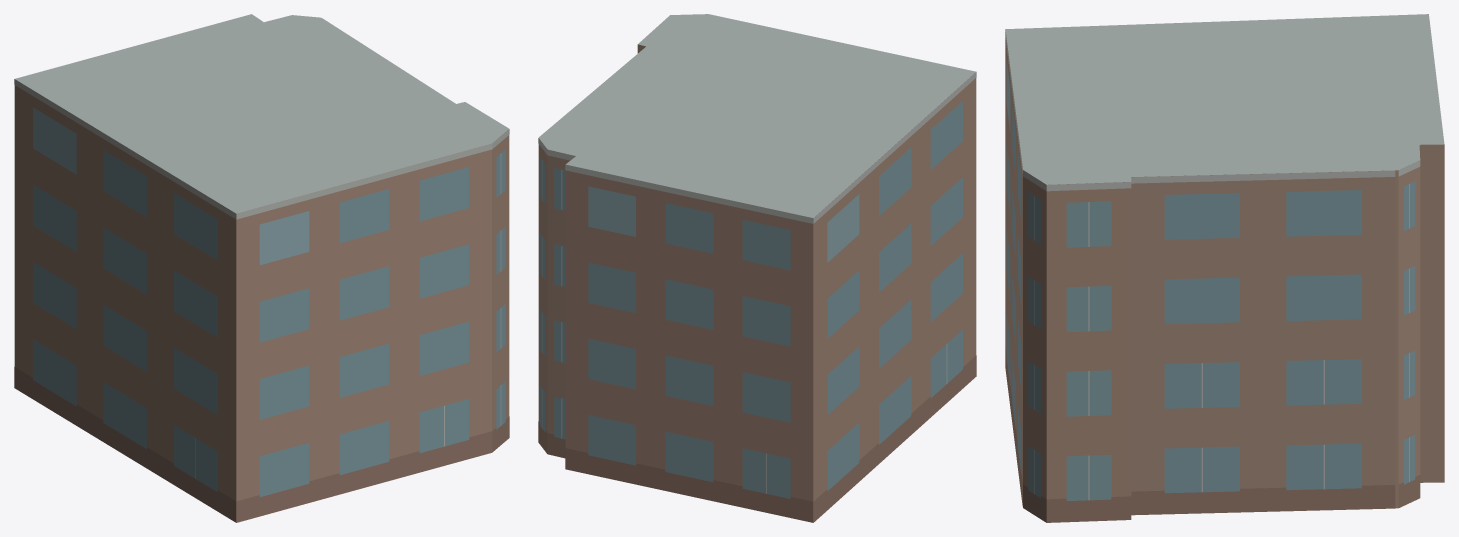
The model's file is survey-upis-32703861.glb.
The picture shows the model from 3 angles, left to right: view 1: azimuth 30°, elevation 25°; view 2: azimuth 150°, elevation 25°; view 3: azimuth 270°, elevation 25°; orthographic projection. The views are drawn at different scales.
Parts seen in each view (by area): view 1: survey-upis-32703861.tmp; view 2: survey-upis-32703861.tmp; view 3: survey-upis-32703861.tmp.
Boxes of the visible parts, <box> form: survey-upis-32703861.tmp: <box>14,14,509,522</box>; survey-upis-32703861.tmp: <box>538,14,976,522</box>; survey-upis-32703861.tmp: <box>1005,14,1444,522</box>.
Bounding box in the file's own units: 13.88 × 12.8 × 15.08.
